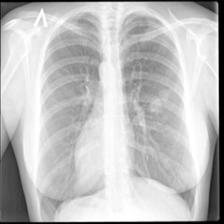tuberculosis: (31, 9, 202, 218)
